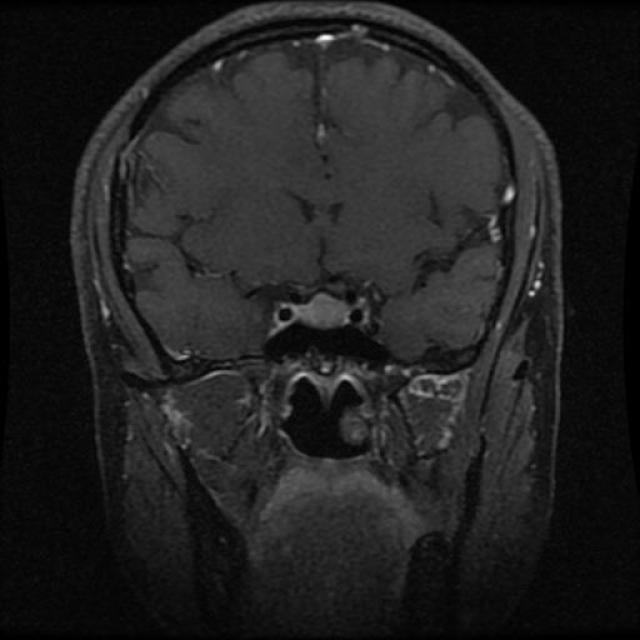pituitary: (271, 281, 377, 370)
